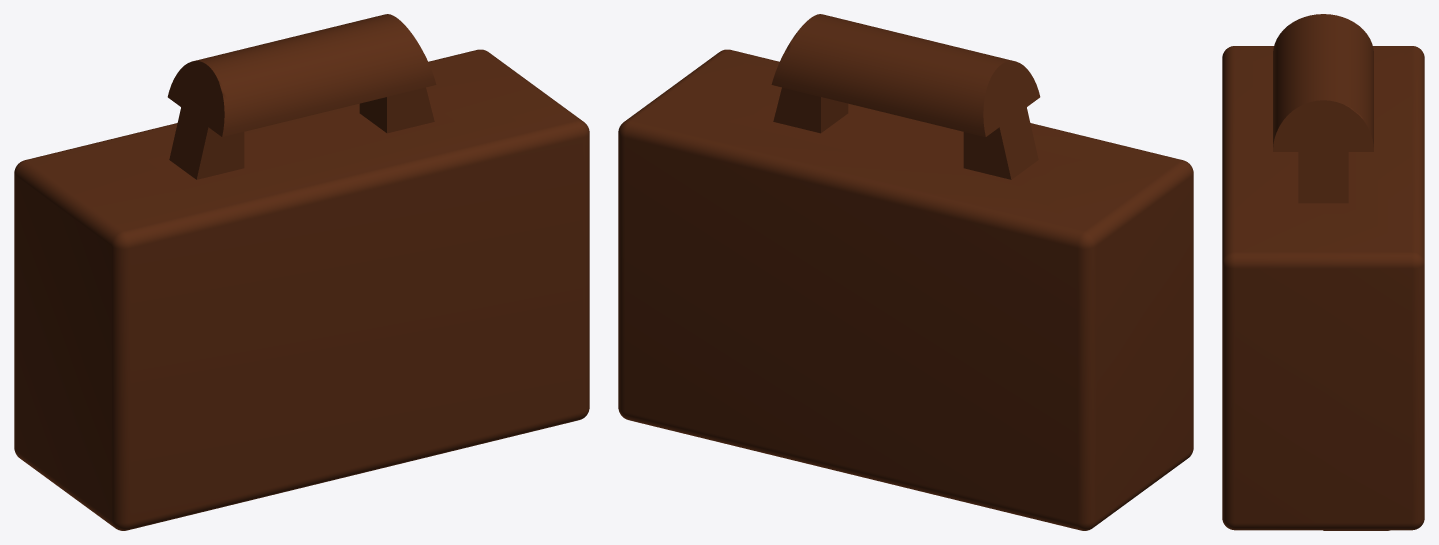
The model's file is briefcase-planet.glb.
3 views of the same model, side by side, from view 1: azimuth 30°, elevation 25°; view 2: azimuth 150°, elevation 25°; view 3: azimuth 270°, elevation 25° (orthographic). The views are drawn at different scales.
Visible parts, largest first — view 1: 4449-f1.dat; view 2: 4449-f1.dat; view 3: 4449-f1.dat.
Boxes of the visible parts, x1,y1,x2,y2 form: 4449-f1.dat: [14, 14, 589, 530]; 4449-f1.dat: [618, 14, 1193, 530]; 4449-f1.dat: [1222, 14, 1424, 530].
Size of the model in its own units: 0.398 by 0.328 by 0.158.
